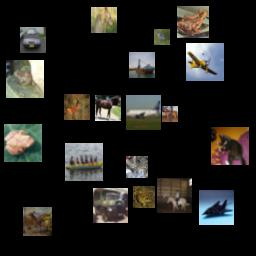airplane: (186, 43, 224, 81), (199, 190, 234, 225), (126, 95, 161, 130)
automobile: (20, 27, 46, 53)
bird: (154, 29, 170, 45)
cat: (211, 127, 249, 165), (126, 156, 148, 178)
deer: (23, 207, 52, 236), (64, 94, 90, 120)
dog: (91, 7, 117, 33)
frog: (6, 60, 44, 98), (4, 124, 42, 162), (177, 6, 209, 38), (133, 186, 155, 208)
ship: (65, 143, 103, 181), (129, 52, 155, 78)
truck: (93, 188, 128, 223)
